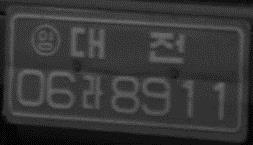0: (15, 67, 46, 108)
1: (209, 78, 228, 124), (179, 75, 198, 120)
6: (45, 69, 75, 110)
8: (110, 74, 140, 114)
9: (140, 76, 172, 116)
대전_D: (68, 24, 186, 66)
라: (80, 73, 104, 110)
영: (29, 22, 62, 57)
